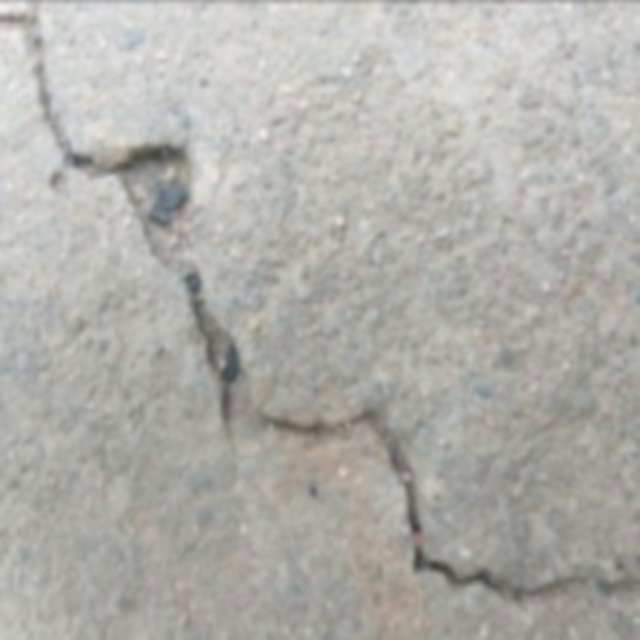SurfaceCrack: (12, 0, 638, 624)
